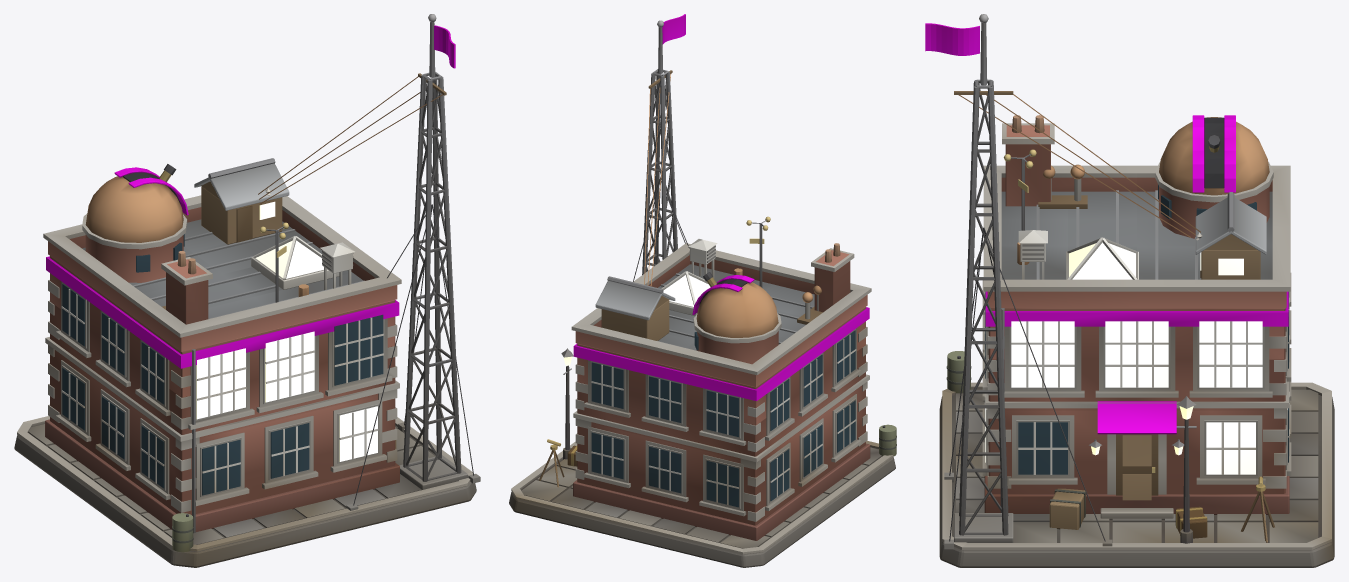
File: tech_center_industrial.glb
The picture shows the model from 3 angles, left to right: view 1: azimuth 30°, elevation 25°; view 2: azimuth 150°, elevation 25°; view 3: azimuth 270°, elevation 25°; orthographic projection. The views are drawn at different scales.
Parts seen in each view (by area): view 1: Body; view 2: Body; view 3: Body.
Part boxes in pixels (left/top/right/bottom): Body: left=14, top=14, right=480, bottom=567; Body: left=509, top=14, right=896, bottom=567; Body: left=925, top=14, right=1334, bottom=567.
Bounding box in the file's own units: 3.99 × 5.98 × 4.14.
Materials: 1 (1 with a texture image).
